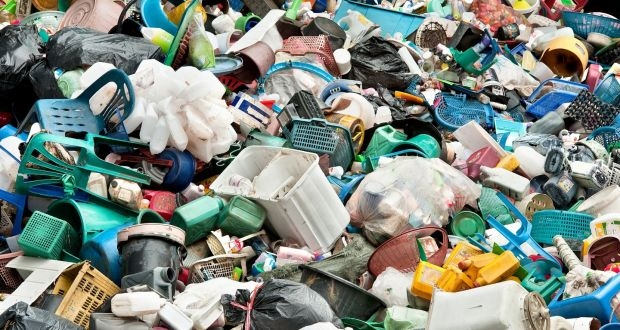plastic: (340, 142, 484, 245), (9, 133, 162, 209), (20, 66, 143, 148), (464, 188, 565, 287), (112, 220, 191, 318), (282, 110, 364, 177), (164, 187, 228, 241), (15, 212, 78, 256), (228, 36, 277, 85), (221, 195, 274, 239)
